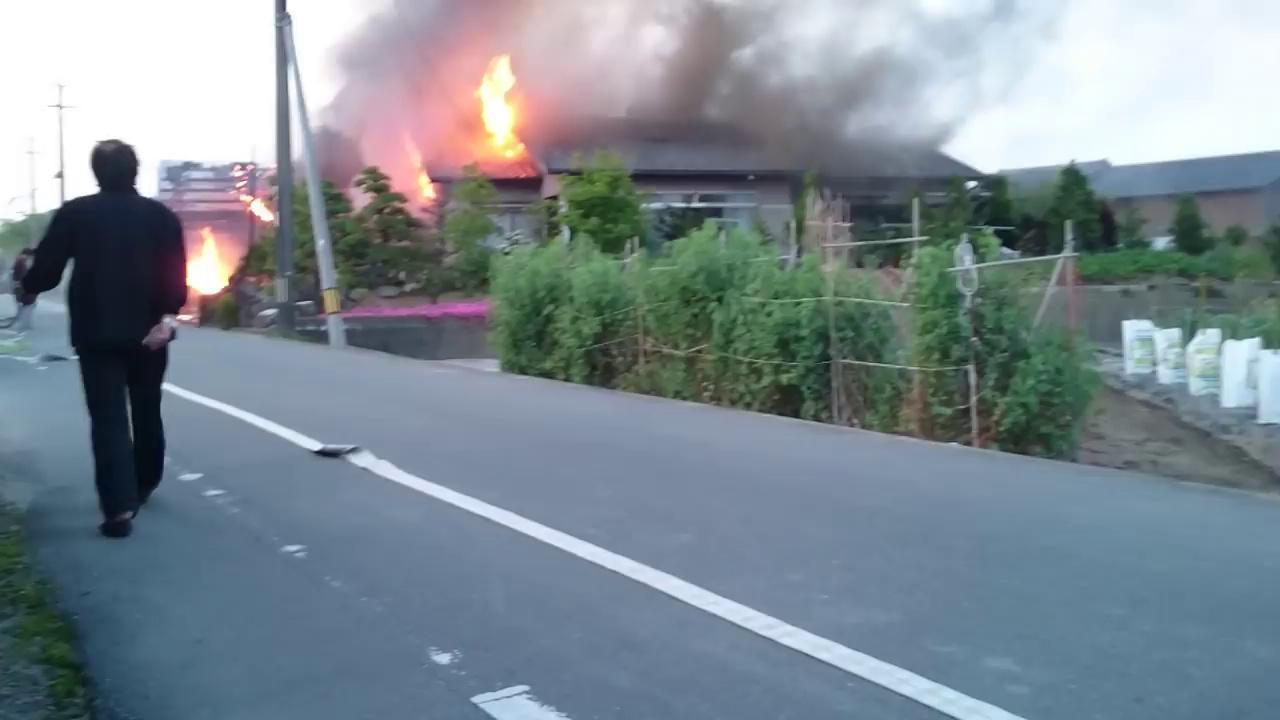Fire: (478, 50, 528, 161), (183, 225, 237, 296), (403, 145, 440, 199), (239, 191, 279, 224)
